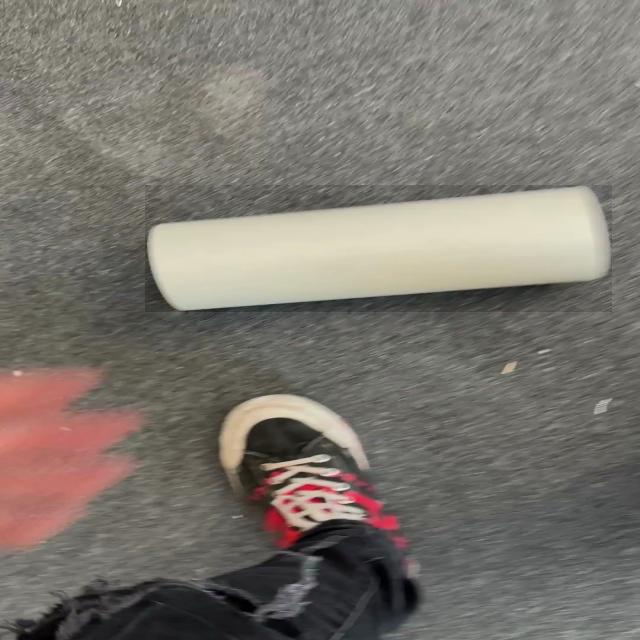Coral: (145, 185, 612, 314)
